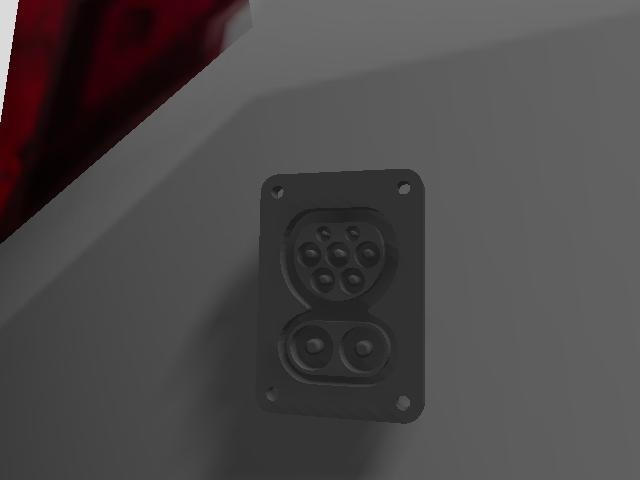EV-socket: (253, 167, 429, 427)
